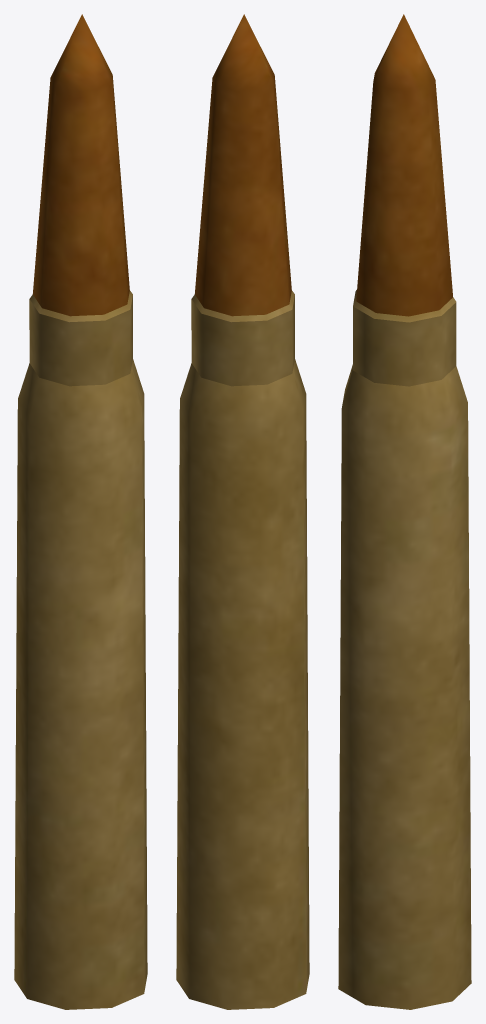
Rendered from PrimaryShell.FBX.
The picture shows the model from 3 angles, left to right: view 1: azimuth 30°, elevation 25°; view 2: azimuth 150°, elevation 25°; view 3: azimuth 330°, elevation 25°; orthographic projection.
Parts seen in each view (by area): view 1: PrimaryShell; view 2: PrimaryShell; view 3: PrimaryShell.
Boxes of the visible parts, x1=… form: PrimaryShell: x1=14, y1=14, x2=147, y2=1009; PrimaryShell: x1=176, y1=14, x2=309, y2=1009; PrimaryShell: x1=338, y1=14, x2=471, y2=1009.
Size of the model in its own units: 1.88 by 15.06 by 1.87.
